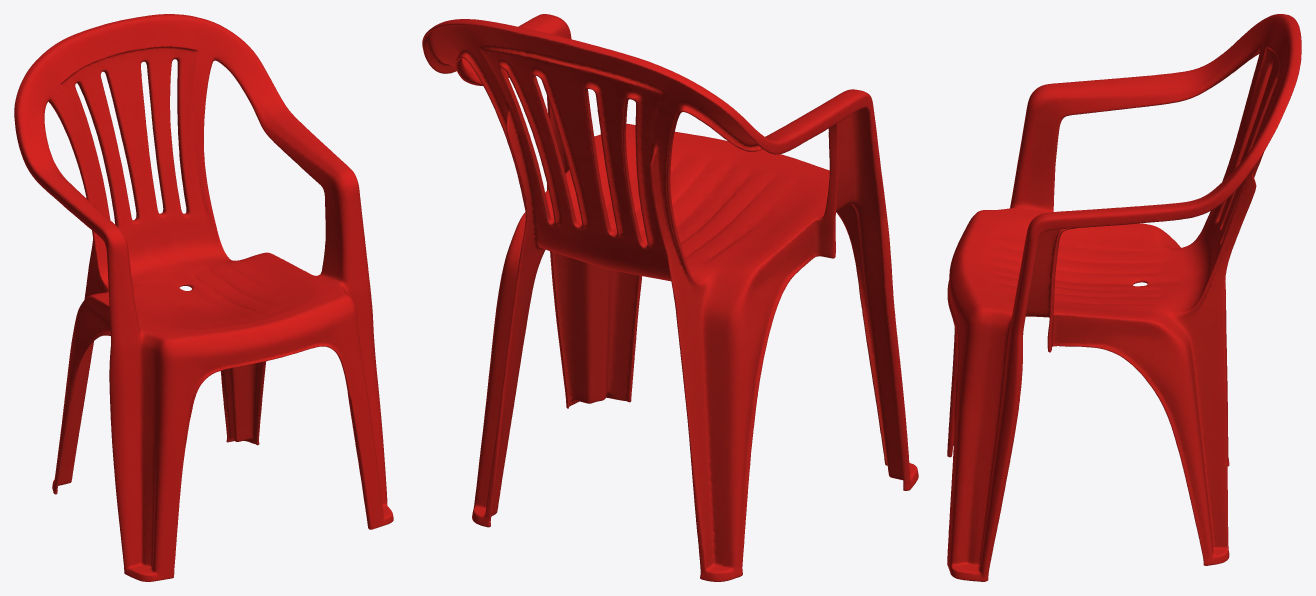
Rendered from cadeiradebar_texture.fbx.
3 views of the same model, side by side, from view 1: azimuth 30°, elevation 25°; view 2: azimuth 150°, elevation 25°; view 3: azimuth 270°, elevation 25° (orthographic). The views are drawn at different scales.
Parts seen in each view (by area): view 1: Mesh_0; view 2: Mesh_0; view 3: Mesh_0.
Boxes of the visible parts, x1,y1,x2,y2 form: Mesh_0: [14, 14, 393, 581]; Mesh_0: [422, 14, 918, 581]; Mesh_0: [947, 14, 1301, 581].
Size of the model in its own units: 125 by 188 by 130.
1 material, 1 textured.
